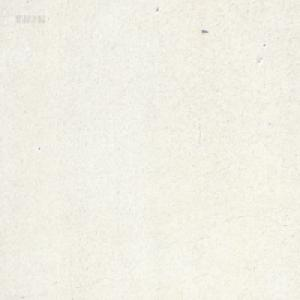Nail: (201, 28, 208, 33)
